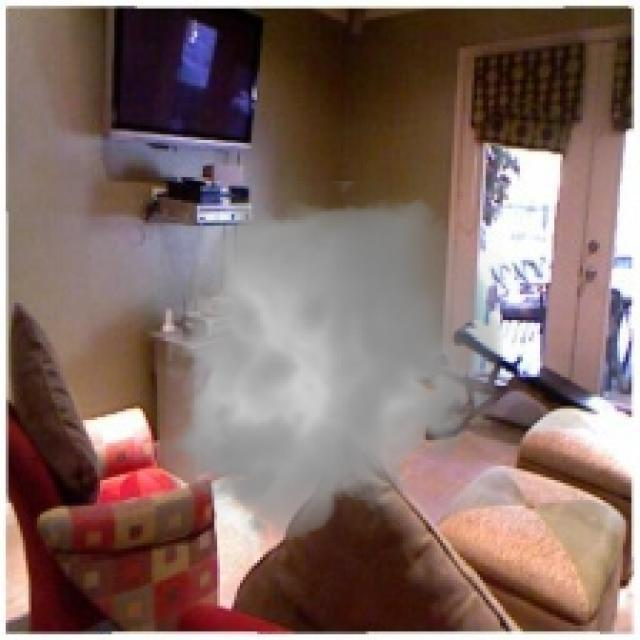Smoke: (152, 180, 514, 554)
